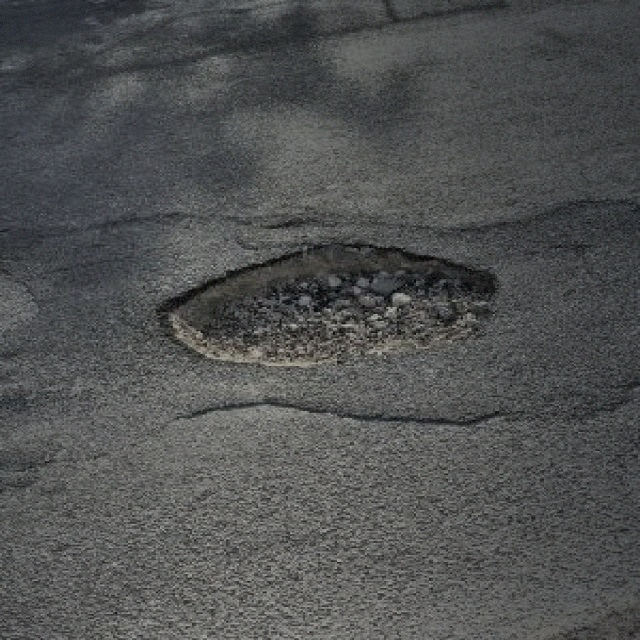pothole: (149, 234, 502, 366)
